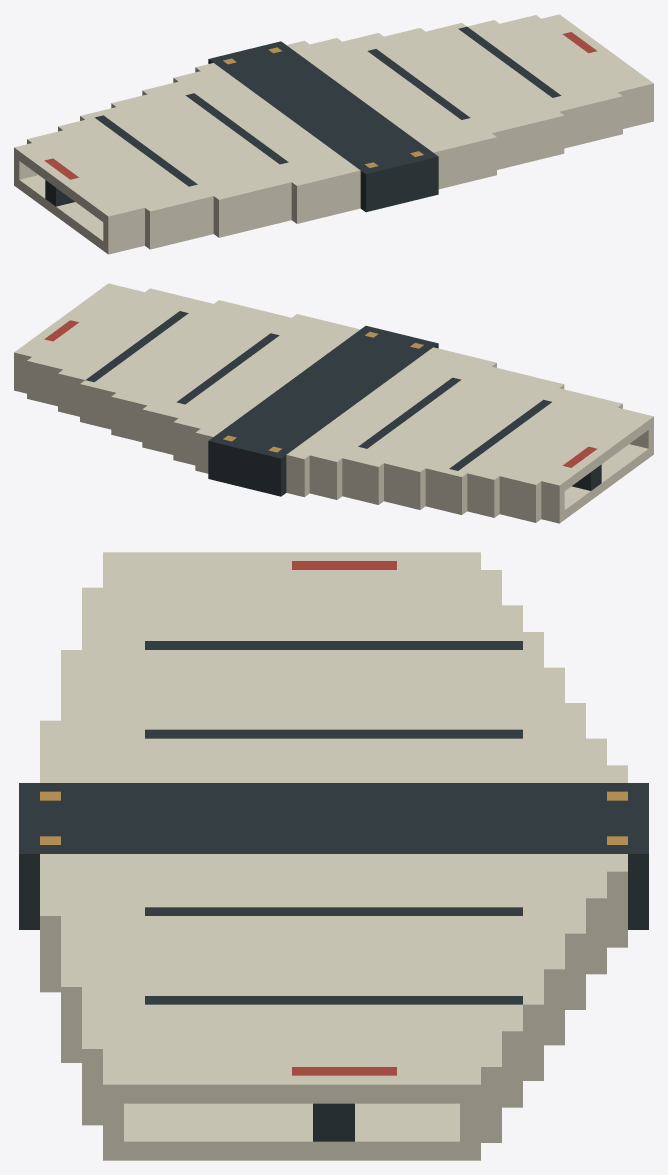
The picture shows the model from 3 angles, top to bottom: view 1: azimuth 30°, elevation 25°; view 2: azimuth 150°, elevation 25°; view 3: azimuth 270°, elevation 25°; orthographic projection. The views are drawn at different scales.
Parts seen in each view (by area): view 1: 公共客机水平及垂直尾翼组件; view 2: 公共客机水平及垂直尾翼组件; view 3: 公共客机水平及垂直尾翼组件.
Part boxes in pixels (left/top/right/bottom): 公共客机水平及垂直尾翼组件: left=14, top=14, right=653, bottom=254; 公共客机水平及垂直尾翼组件: left=14, top=283, right=653, bottom=523; 公共客机水平及垂直尾翼组件: left=19, top=552, right=648, bottom=1160.
Bounding box in the file's own units: 6 × 0.4 × 3.
Materials: 4 (4 with a texture image).
